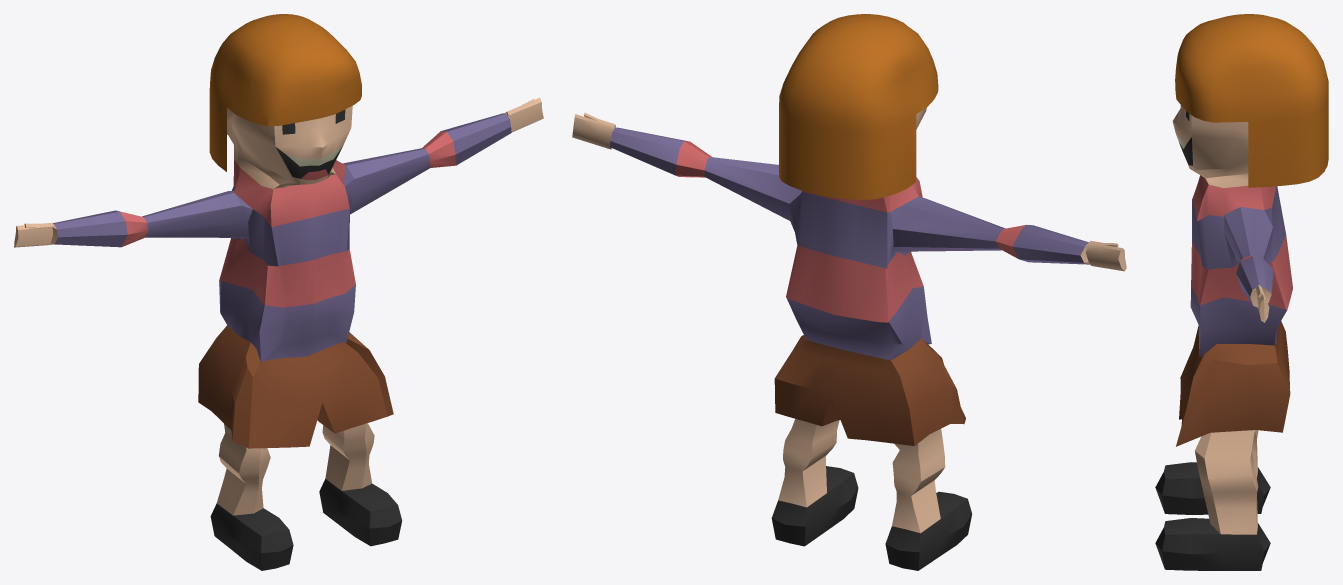
Rendered from Fils1.fbx.
3 views of the same model, side by side, from view 1: azimuth 30°, elevation 25°; view 2: azimuth 150°, elevation 25°; view 3: azimuth 270°, elevation 25° (orthographic). The views are drawn at different scales.
Parts seen in each view (by area): view 1: Sphere; view 2: Sphere; view 3: Sphere.
Boxes of the visible parts, x1,y1,x2,y2 form: Sphere: (14, 14, 543, 570); Sphere: (572, 14, 1126, 570); Sphere: (1155, 14, 1328, 570).
Size of the model in its own units: 888 by 812 by 249.
